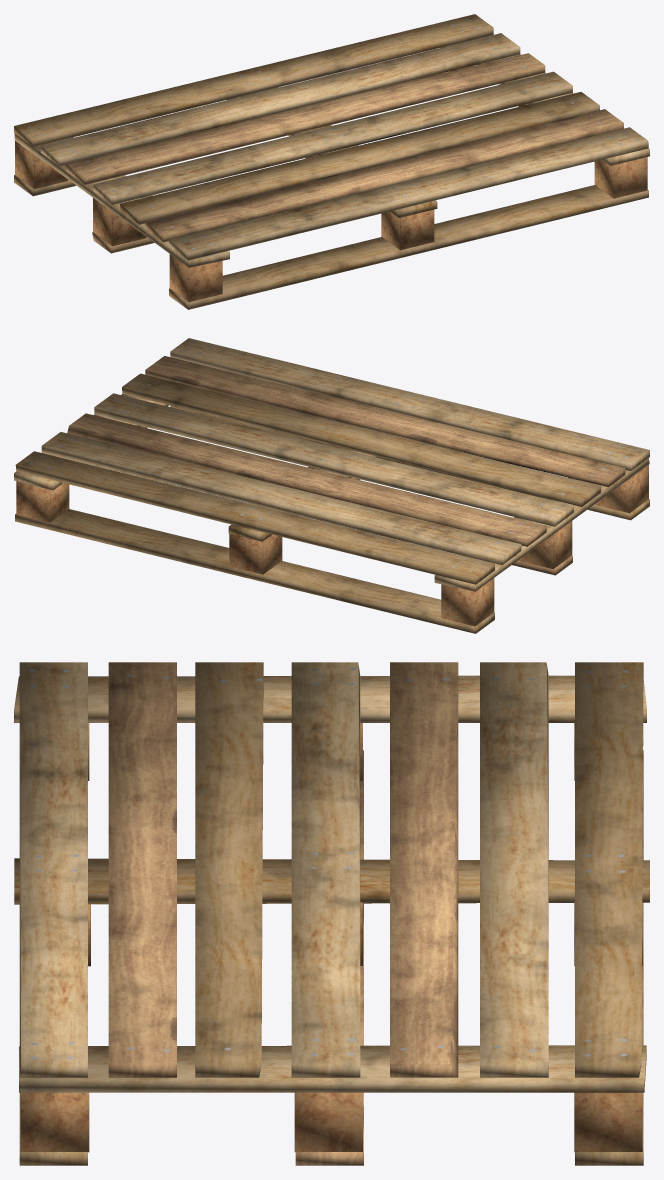
Rendered from HomebaseWoodenPallet_LOD01.gltf.
3 renders of one model, top to bottom at view 1: azimuth 30°, elevation 25°; view 2: azimuth 150°, elevation 25°; view 3: azimuth 270°, elevation 25°, orthographic. The views are drawn at different scales.
Visible parts, largest first — view 1: HomebaseWoodenPallet_LOD01_node; view 2: HomebaseWoodenPallet_LOD01_node; view 3: HomebaseWoodenPallet_LOD01_node.
Part boxes in pixels (bbox=[...]): HomebaseWoodenPallet_LOD01_node: bbox=[14, 14, 649, 309]; HomebaseWoodenPallet_LOD01_node: bbox=[14, 338, 649, 633]; HomebaseWoodenPallet_LOD01_node: bbox=[14, 662, 649, 1165].
Bounding box in the file's own units: 1.2 × 0.14 × 0.8.
Materials: 1 (1 with a texture image).
